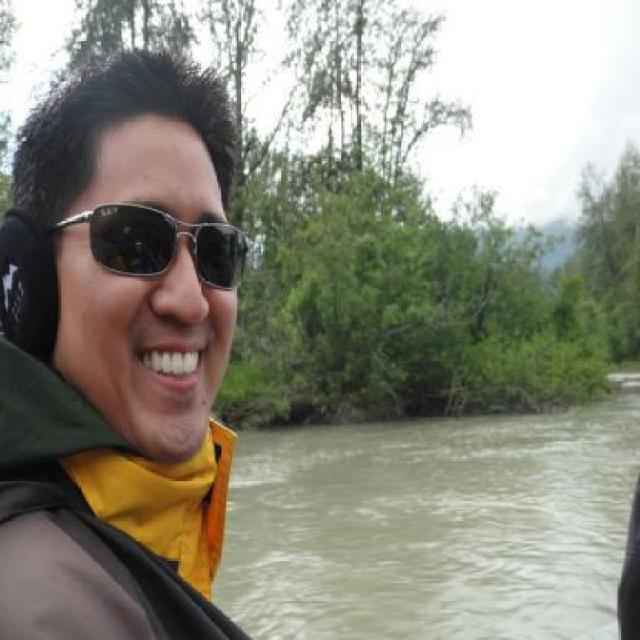face_nomask: (78, 203, 242, 422)
glasses: (51, 193, 242, 289)
head_nohelmet: (23, 49, 248, 174)
